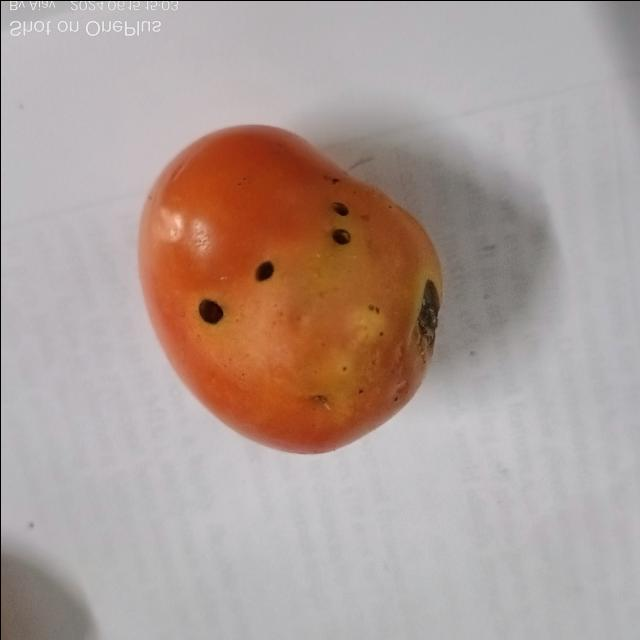fruitworm_bore: (327, 190, 357, 252), (247, 251, 283, 291), (190, 291, 228, 328)
